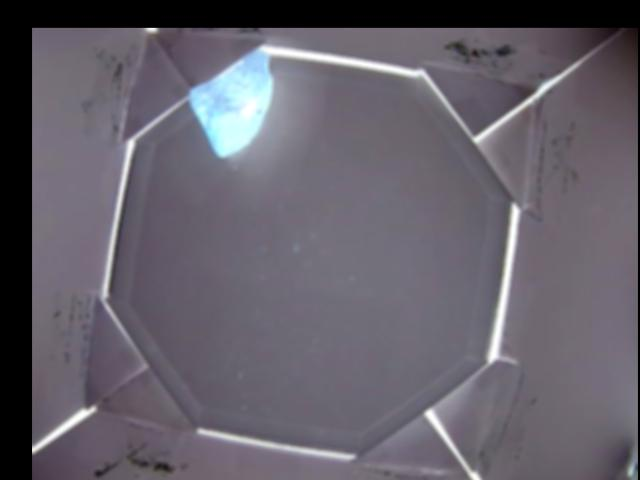Brisk: (188, 49, 273, 157)
